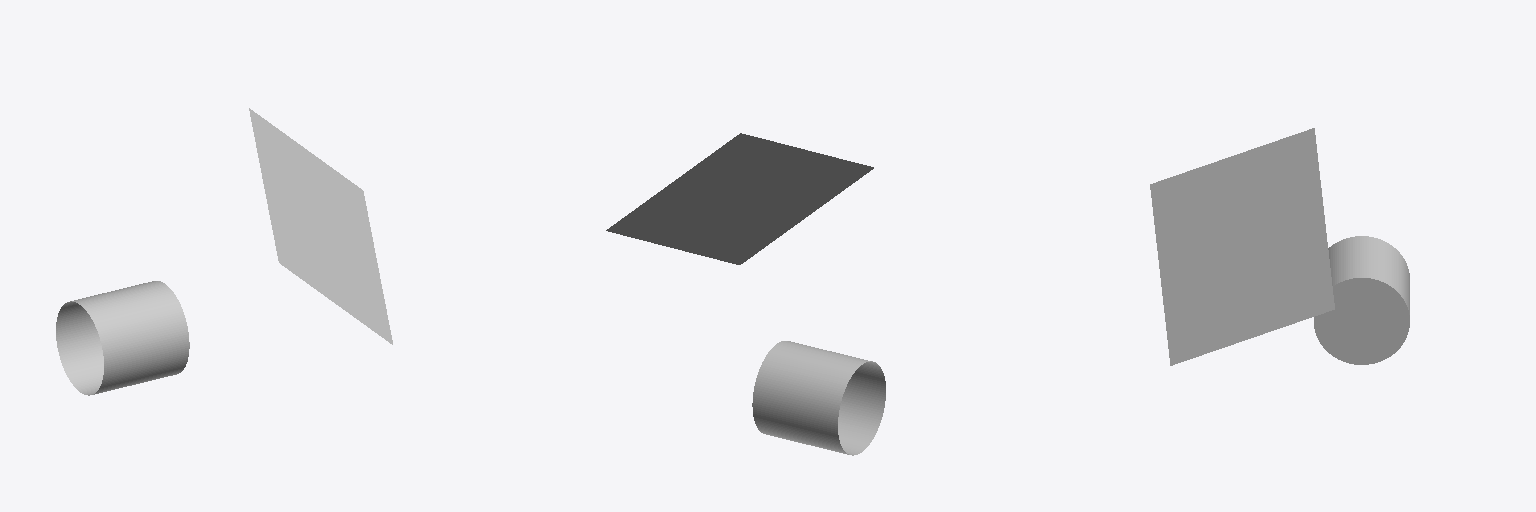
File: pot.obj
3 views of the same model, side by side, from view 1: azimuth 30°, elevation 25°; view 2: azimuth 150°, elevation 25°; view 3: azimuth 270°, elevation 25° (orthographic).
Parts seen in each view (by area): view 1: LightSource_Plane, Pan_Cylinder.003; view 2: LightSource_Plane, Pan_Cylinder.003; view 3: LightSource_Plane, Pan_Cylinder.003.
Boxes of the visible parts, <box> form: LightSource_Plane: <box>249,108,392,344</box>; Pan_Cylinder.003: <box>56,281,189,395</box>; LightSource_Plane: <box>606,133,873,264</box>; Pan_Cylinder.003: <box>752,341,885,455</box>; LightSource_Plane: <box>1150,128,1334,365</box>; Pan_Cylinder.003: <box>1314,236,1409,364</box>.
Size of the model in its own units: 6.32 by 5.95 by 5.27.